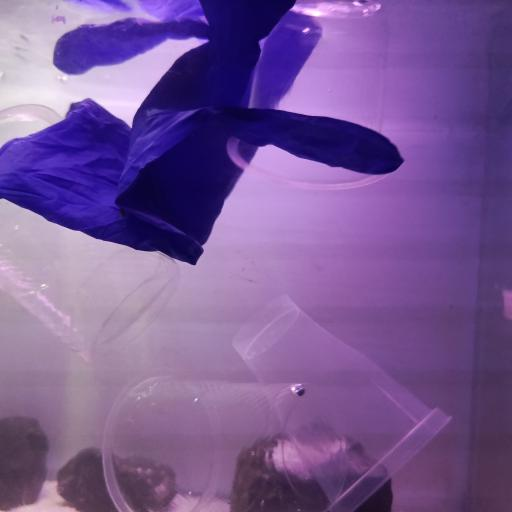glove: (0, 0, 403, 264)
plastic_cup: (230, 292, 452, 512), (0, 101, 181, 369), (102, 369, 346, 512), (224, 0, 400, 193)
